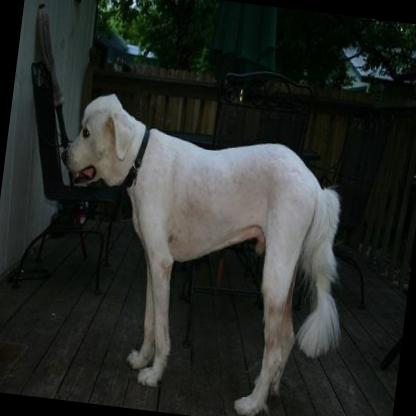Great_Pyrenees: (28, 82, 366, 416)
